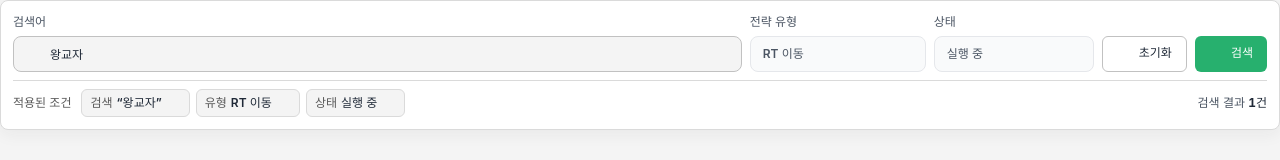
Test: StrategyExecutionFilters › resets the search query and every filter together
Click the button "초기화" at {"x": 1144, "y": 54}, box [1102, 36, 1187, 72]
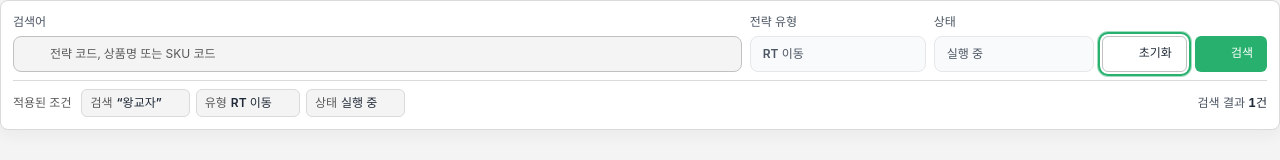
expect the search field named "전략 코드, 상품명 또는 SKU 코드 검색" is empty: met, box [13, 36, 742, 72]
